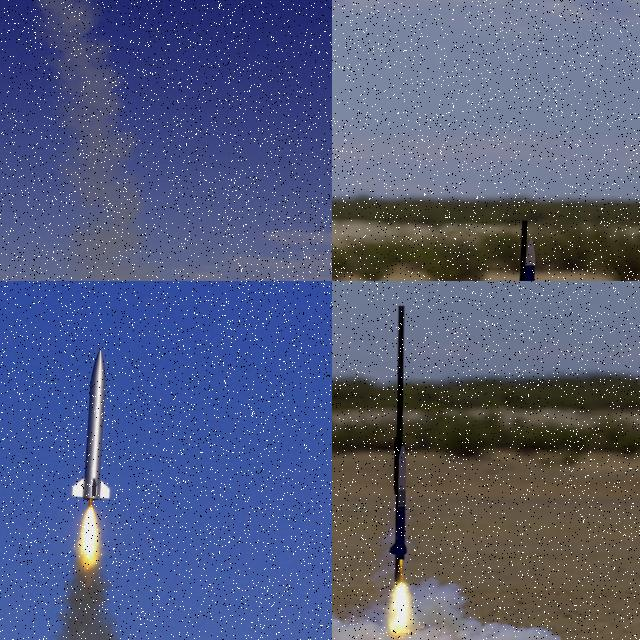Rocket: (72, 347, 111, 501), (390, 444, 409, 561), (517, 235, 546, 281)
